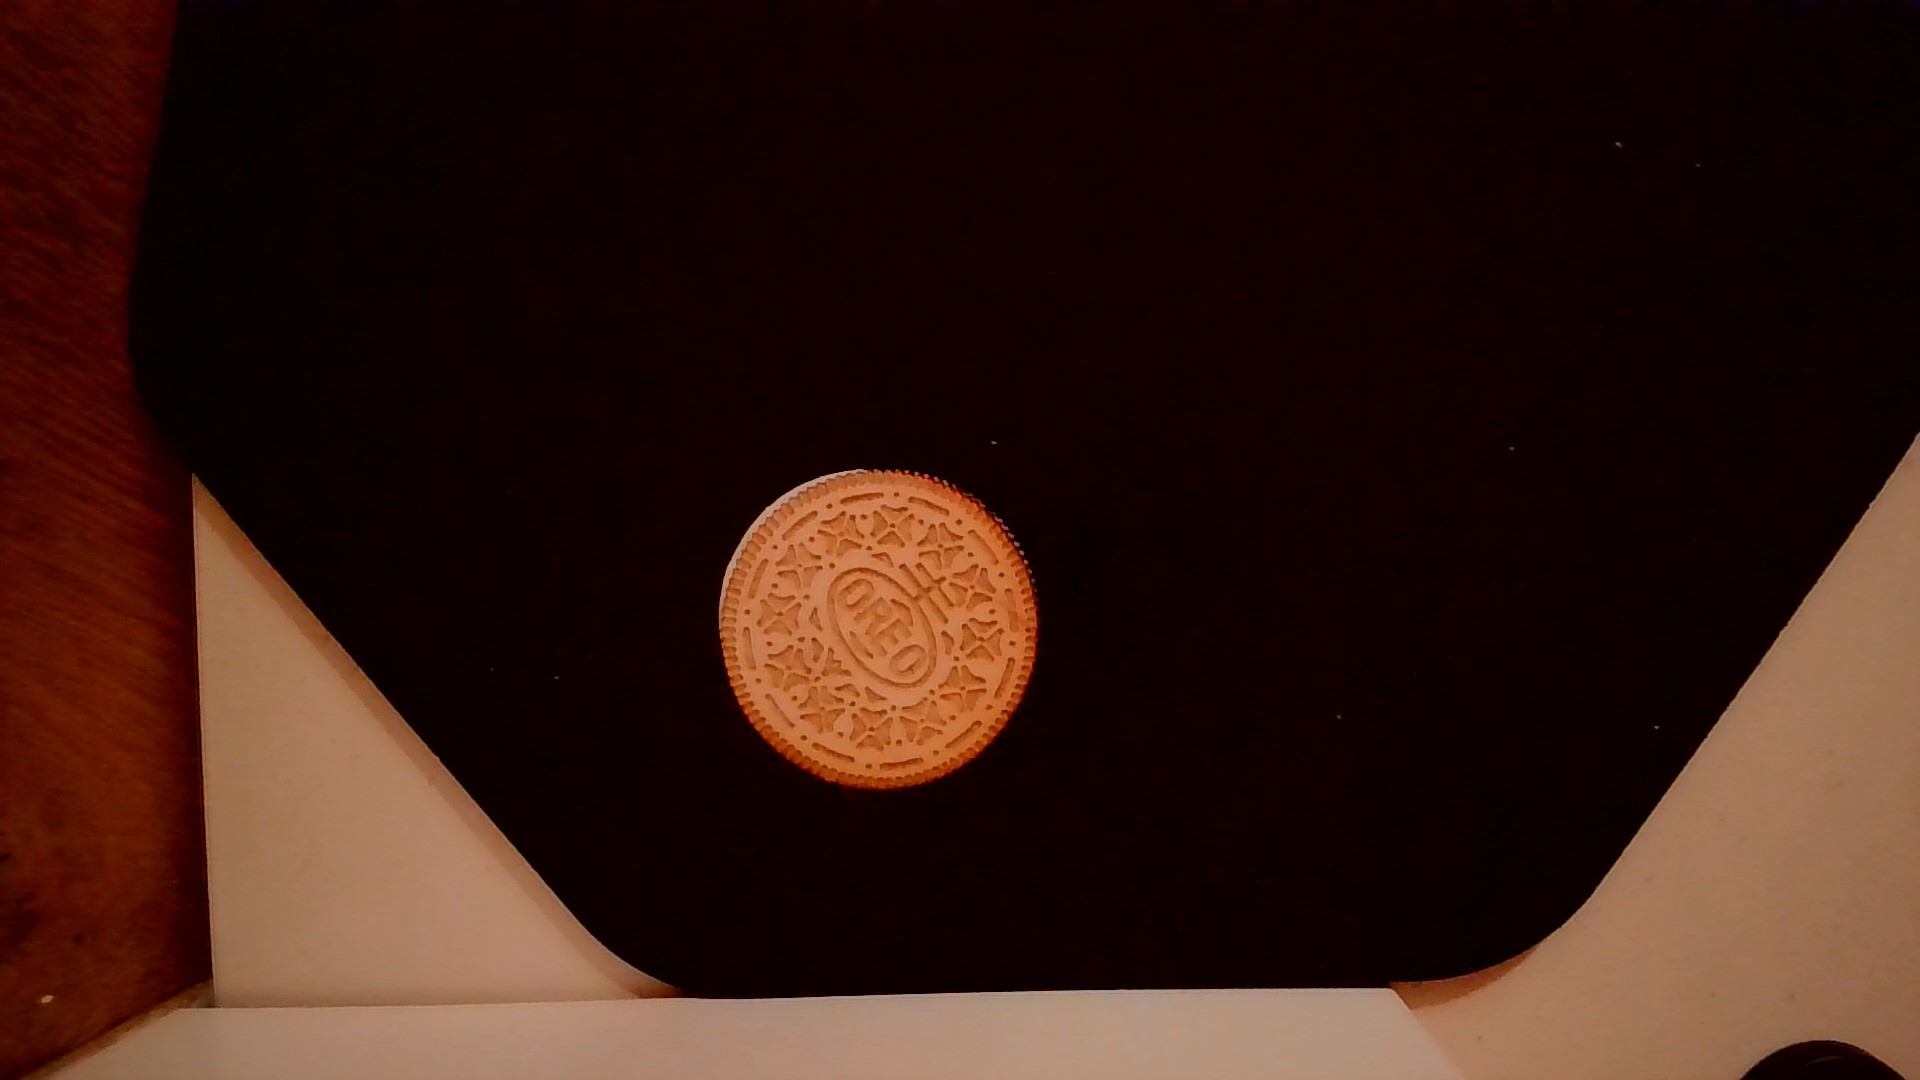Décalé: (708, 456, 870, 611)
Oréo: (712, 456, 1048, 802)
